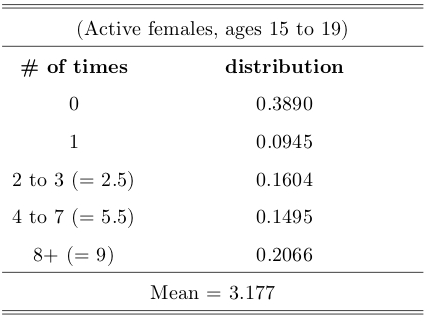column: (213, 50, 377, 273), (3, 49, 163, 271)
row: (1, 2, 426, 43), (3, 161, 427, 202), (1, 121, 427, 159), (1, 276, 426, 314), (1, 84, 427, 120), (1, 203, 427, 238), (1, 241, 427, 275), (1, 50, 426, 84)
